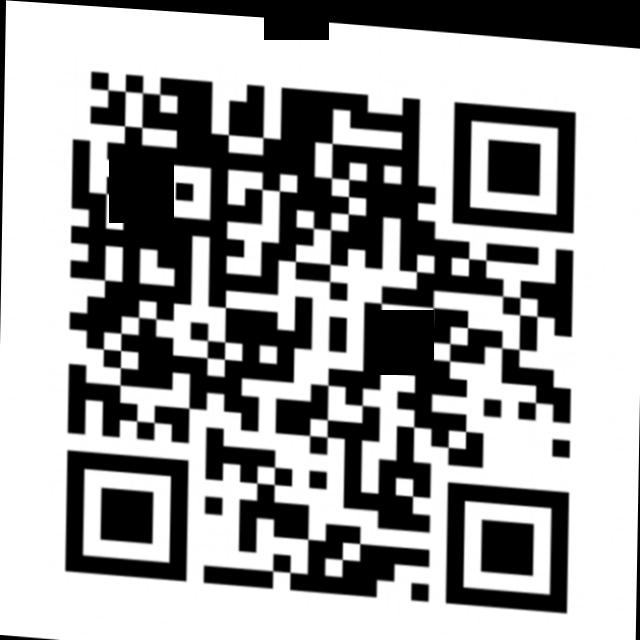QR_CODE: (53, 52, 594, 622)
